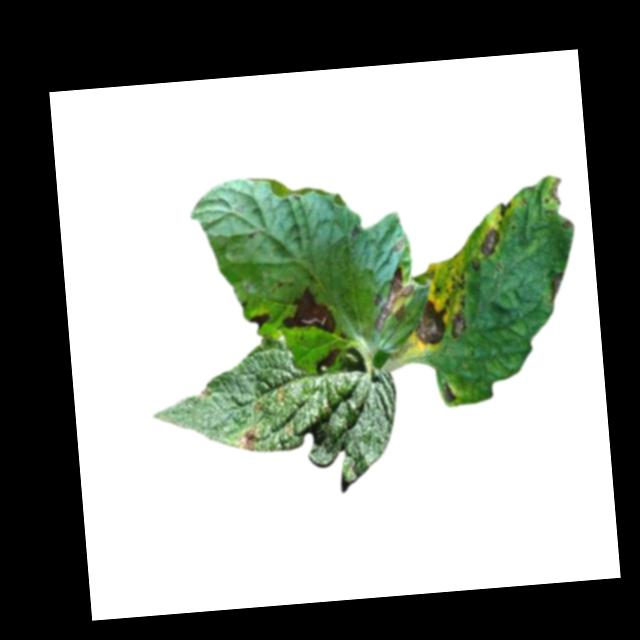Early_blight: (370, 269, 416, 334), (281, 287, 338, 337), (414, 295, 451, 349), (449, 307, 471, 342), (479, 227, 503, 258), (314, 348, 342, 373), (236, 424, 259, 453), (546, 272, 566, 302), (549, 178, 565, 211), (441, 381, 460, 406), (248, 312, 269, 333), (498, 203, 515, 220)
